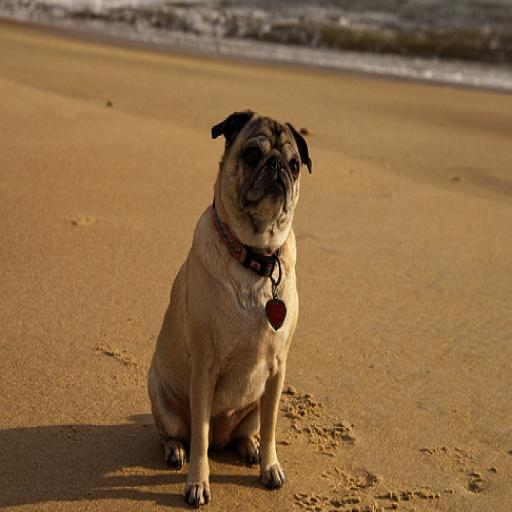dog_face: (202, 104, 322, 261)
